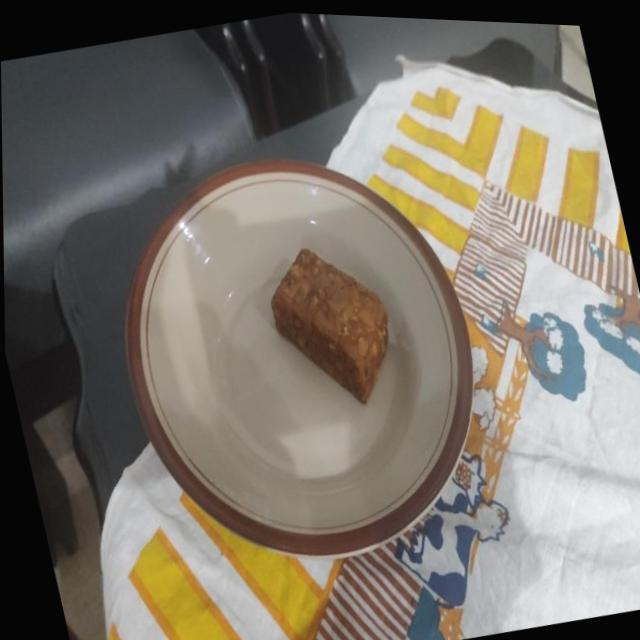tempe_goreng: (270, 248, 388, 402)
